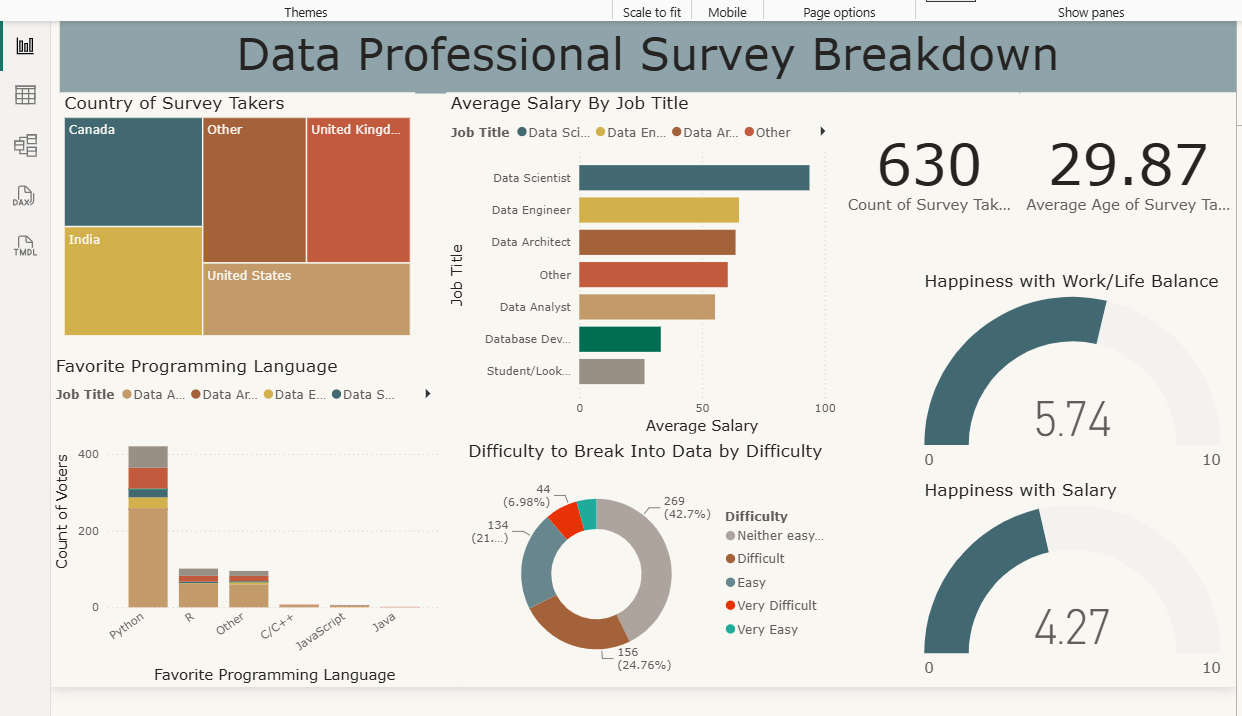

What the dashboard file says about the page in this screenshot:
{"tool":"powerbi","page":{"name":"Page 1","canvas":[1280,720],"ordinal":0},"visuals":[{"type":"textbox","box":[9.6,0,1271,78.1],"z":0},{"type":"card","fields":{"Values":["CountNonNull(Data Professional Survey.Unique ID)"]},"box":[852.8,77.7,193.4,168],"z":1},{"type":"card","fields":{"Values":["Avg(Data Professional Survey.Q10 - Current Age)"]},"box":[1046.2,77.7,234.4,168],"z":2},{"type":"barChart","title":"Average Salary By Job Title","fields":{"Category":["Data Professional Survey.Q1 - Which Title Best Fits your Current Role?.1"],"Y":["Avg(Data Professional Survey.Average Salary)"],"Series":["Data Professional Survey.Q1 - Which Title Best Fits your Current Role?.1"]},"box":[426.4,77.7,426.4,374.1],"z":3},{"type":"columnChart","title":"Favorite Programming Language","fields":{"Category":["Data Professional Survey.Q5 - Favorite Programming Language.1"],"Y":["CountNonNull(Data Professional Survey.Unique ID)"],"Series":["Data Professional Survey.Q1 - Which Title Best Fits your Current Role?.1"]},"box":[0,360,426.4,360],"z":4},{"type":"treemap","title":"Country of Survey Takers","fields":{"Group":["Data Professional Survey.Q11 - Which Country do you live in?.1"],"Values":["Count(Data Professional Survey.Q11 - Which Country do you live in?.1)"]},"box":[9.9,77.7,384,268.3],"z":5},{"type":"gauge","title":"Happiness with Work/Life Balance","fields":{"Y":["Avg(Data Professional Survey.Q6 - How Happy are you in your Current Position with the following? (Work/Life Balance))"],"MinValue":["Min(Data Professional Survey.Q6 - How Happy are you in your Current Position with the following? (Work/Life Balance))1"],"MaxValue":["Max(Data Professional Survey.Q6 - How Happy are you in your Current Position with the following? (Work/Life Balance))2"]},"box":[938.9,268.3,330.4,225.9],"z":6},{"type":"gauge","title":"Happiness with Salary","fields":{"Y":["Avg(Data Professional Survey.Q6 - How Happy are you in your Current Position with the following? (Salary))"],"MinValue":["Min(Data Professional Survey.Q6 - How Happy are you in your Current Position with the following? (Salary))"],"MaxValue":["Max(Data Professional Survey.Q6 - How Happy are you in your Current Position with the following? (Salary))1"]},"box":[938.9,494.2,330.4,224.5],"z":7},{"type":"donutChart","fields":{"Category":["Data Professional Survey.Q7 - How difficult was it for you to break into Data?"],"Y":["CountNonNull(Data Professional Survey.Q7 - How difficult was it for you to break into Data?)"]},"box":[446.2,451.8,406.6,268.3],"z":8}]}

Visuals, with their boxes on the page's 1280x720 design canvas (x1, y1, x2, y2). These are canvas units, not pixel positions in the 1242x716 screenshot, which may show the page scaled, cropped or inside an application window:
textbox: pyautogui.locateOnScreen(10, 0, 1281, 78)
card - CountNonNull(Data Professional Survey.Unique ID): pyautogui.locateOnScreen(853, 78, 1046, 246)
card - Avg(Data Professional Survey.Q10 - Current Age): pyautogui.locateOnScreen(1046, 78, 1281, 246)
"Average Salary By Job Title" barChart: pyautogui.locateOnScreen(426, 78, 853, 452)
"Favorite Programming Language" columnChart: pyautogui.locateOnScreen(0, 360, 426, 720)
"Country of Survey Takers" treemap: pyautogui.locateOnScreen(10, 78, 394, 346)
"Happiness with Work/Life Balance" gauge: pyautogui.locateOnScreen(939, 268, 1269, 494)
"Happiness with Salary" gauge: pyautogui.locateOnScreen(939, 494, 1269, 719)
donutChart - Data Professional Survey.Q7 - How difficult was it for you to break into Data? x CountNonNull(Data Professional Survey.Q7 - How difficult was it for you to break into Data?): pyautogui.locateOnScreen(446, 452, 853, 720)
